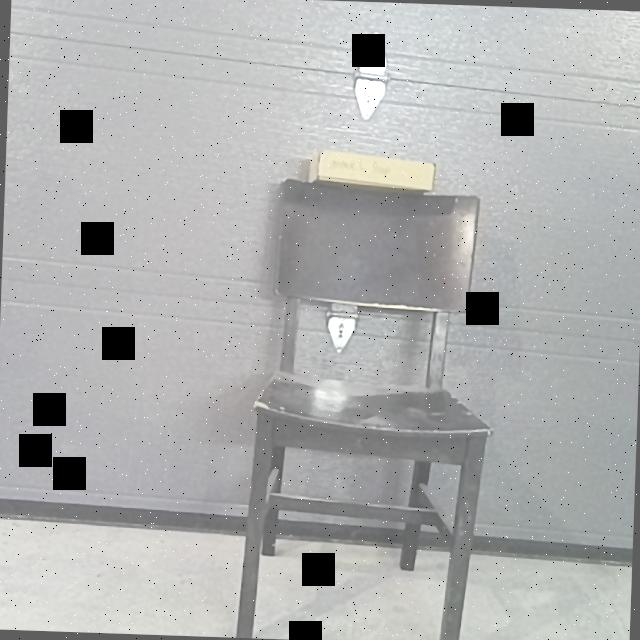box: (318, 154, 432, 188)
